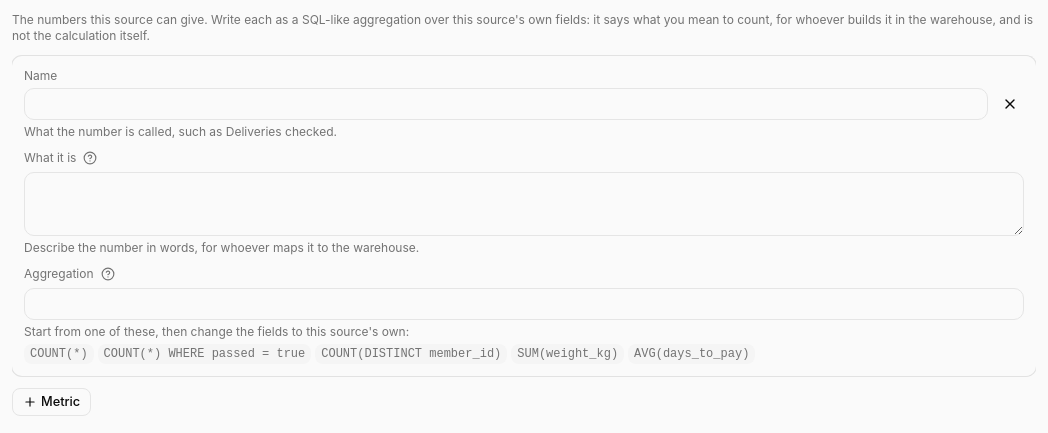
Test: an empty metric › says what a metric is and starts from an example
Expected: the text "The numbers this source can give. Write each as a SQL-like aggregation over this source's own fields: it says what you m" is shown, [12, 12, 1033, 43]
Expected: the text "What the number is called, such as Deliveries checked." is shown, [24, 124, 337, 139]
Click the button "COUNT(*) WHERE passed = true" at (204, 354), box [98, 344, 311, 364]
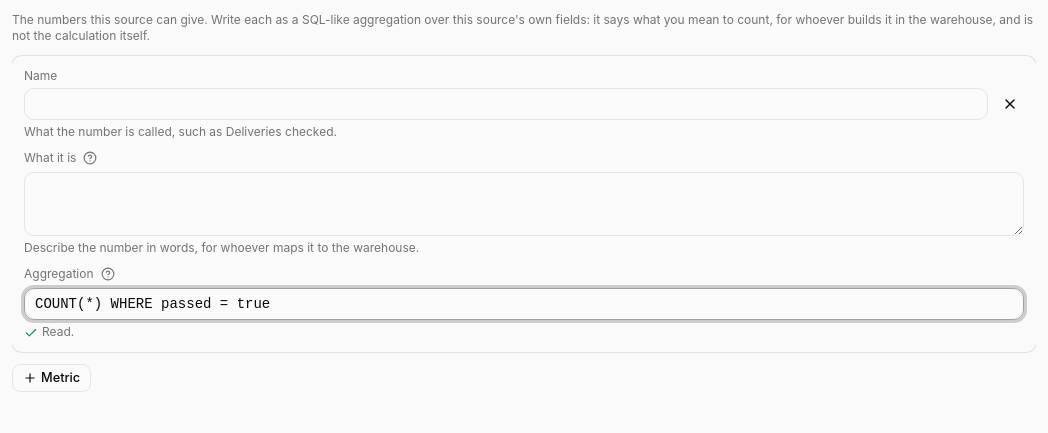
Expected: the text "Start from one of these, then change the fields to this source's own:" is gone
